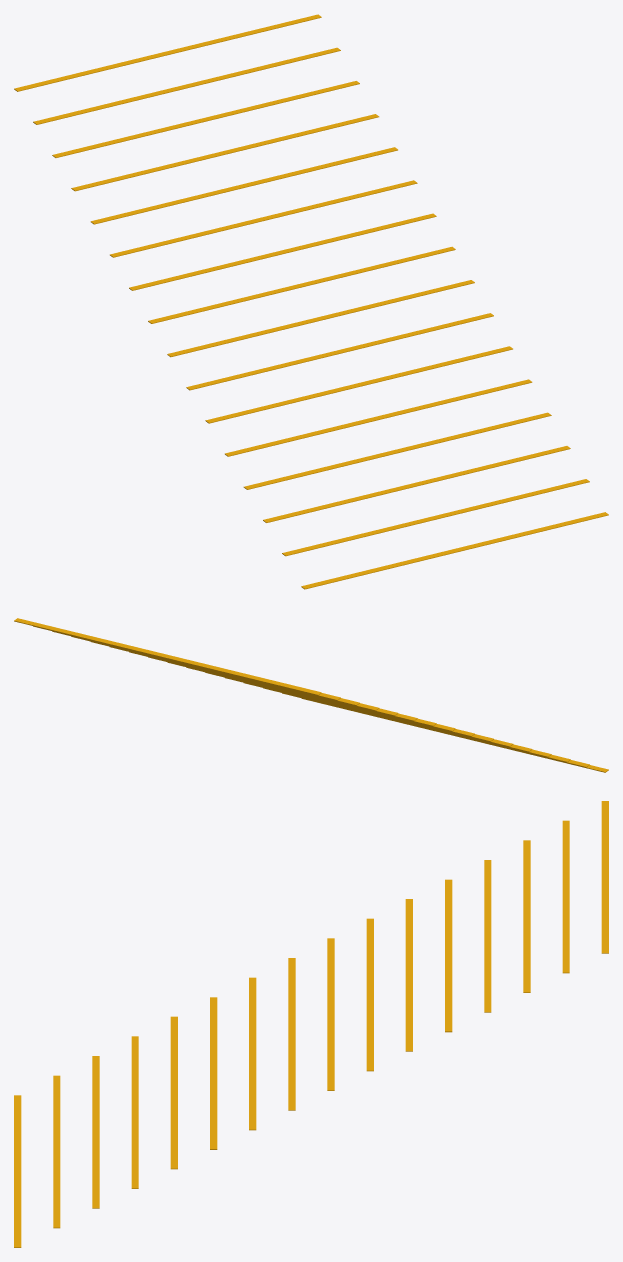
Rendered from gteki_ik_stair_n16_r164_t297_w2741_nosing.glb.
3 renders of one model, top to bottom at view 1: azimuth 30°, elevation 25°; view 2: azimuth 150°, elevation 25°; view 3: azimuth 270°, elevation 25°, orthographic. The views are drawn at different scales.
Parts seen in each view (by area): view 1: VIS_body; view 2: VIS_body; view 3: VIS_body.
Part boxes in pixels (x1,y1,x2,y2): VIS_body: [14, 14, 608, 589]; VIS_body: [14, 618, 608, 772]; VIS_body: [14, 801, 608, 1247].
Size of the model in its own units: 2.72 by 2.47 by 4.51.
1 material, 1 textured.
